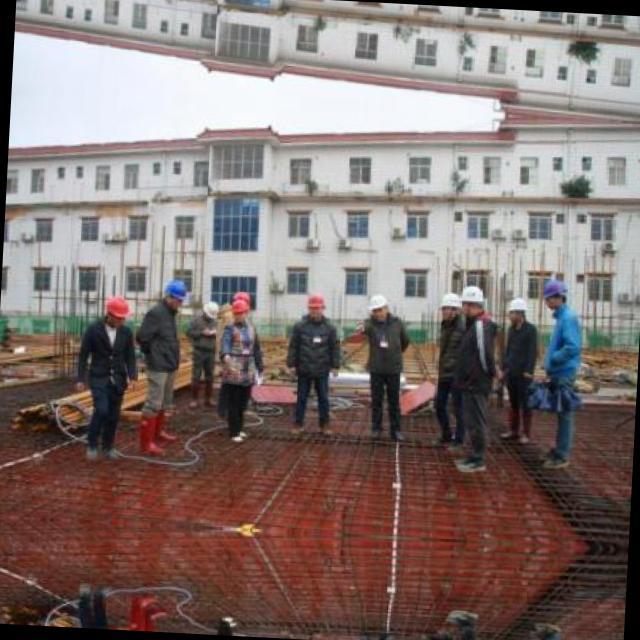helmet: (99, 292, 135, 331), (538, 274, 570, 312), (457, 281, 488, 319), (436, 288, 464, 326), (160, 277, 190, 311), (365, 292, 390, 324), (506, 293, 530, 325), (304, 288, 326, 320), (198, 298, 221, 322), (232, 289, 254, 309), (232, 300, 249, 324)
